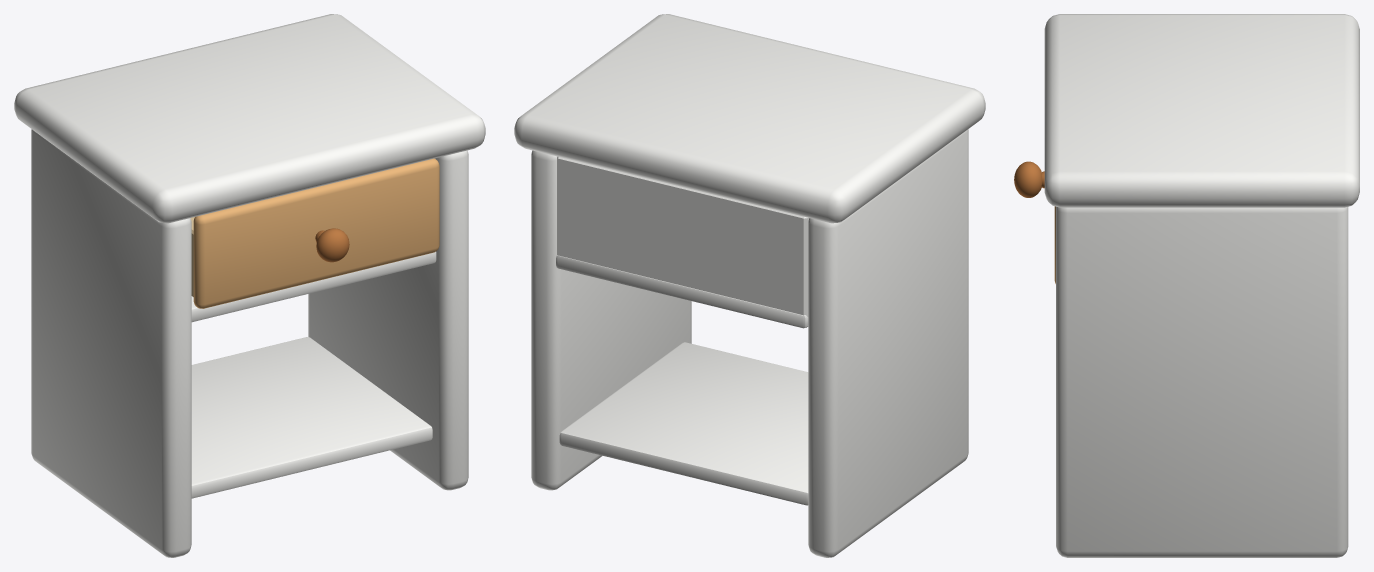
Rendered from criado_painel_branco.glb.
The picture shows the model from 3 angles, left to right: view 1: azimuth 30°, elevation 25°; view 2: azimuth 150°, elevation 25°; view 3: azimuth 270°, elevation 25°; orthographic projection. The views are drawn at different scales.
Visible parts, largest first — view 1: criado_painel_branco, gaveta_1; view 2: criado_painel_branco; view 3: criado_painel_branco, gaveta_1.
Boxes of the visible parts, x1=… form: criado_painel_branco: x1=14, y1=14, x2=485, y2=557; gaveta_1: x1=190, y1=158, x2=439, y2=308; criado_painel_branco: x1=514, y1=14, x2=985, y2=557; criado_painel_branco: x1=1044, y1=14, x2=1359, y2=557; gaveta_1: x1=1014, y1=161, x2=1055, y2=283.
Size of the model in its own units: 0.52 by 0.56 by 0.4496.
Materials: 1 (1 with a texture image).
